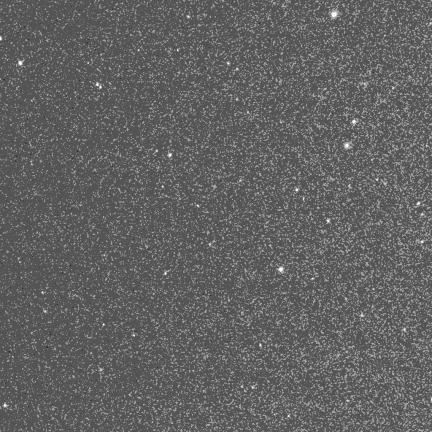blob: (279, 267, 284, 273), (332, 12, 337, 17), (345, 143, 349, 148), (352, 120, 356, 124), (155, 149, 159, 153), (421, 240, 425, 244), (168, 153, 172, 157), (4, 403, 8, 407), (19, 60, 22, 65), (165, 271, 168, 276), (227, 61, 230, 65), (42, 291, 45, 295), (99, 85, 102, 89), (327, 219, 330, 223), (361, 313, 364, 317), (288, 414, 291, 418), (421, 213, 425, 216), (236, 68, 239, 71), (392, 87, 395, 90), (177, 49, 180, 52), (295, 188, 298, 191), (96, 83, 99, 86), (236, 98, 239, 101), (197, 205, 200, 208), (417, 202, 420, 205), (187, 15, 190, 18), (103, 324, 106, 327), (0, 36, 2, 40), (260, 343, 261, 347)
